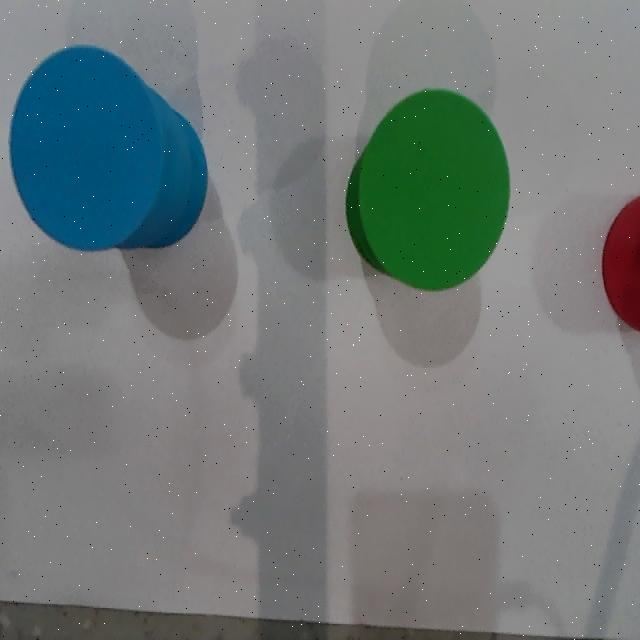b: (11, 46, 163, 252)
g: (360, 90, 509, 292)
